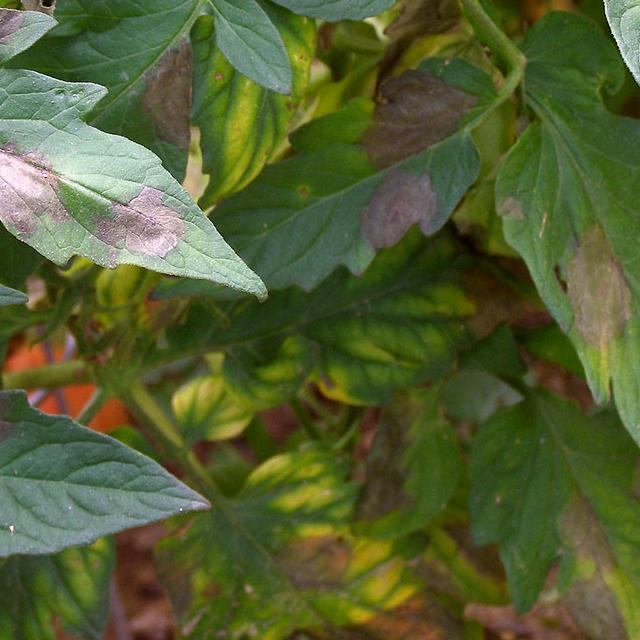Tomato leaf late blight: (187, 44, 498, 288), (484, 0, 640, 476), (0, 2, 262, 284), (0, 376, 222, 565)
